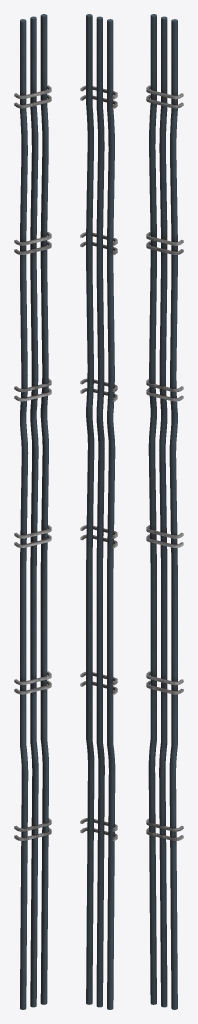
File: Cables01_04.glb
3 views of the same model, side by side, from view 1: azimuth 30°, elevation 25°; view 2: azimuth 150°, elevation 25°; view 3: azimuth 330°, elevation 25° (orthographic).
Visible parts, largest first — view 1: Circle_007; view 2: Circle_007; view 3: Circle_007.
Boxes of the visible parts, box(x1,y1,x2,y2) form: Circle_007: box(14, 14, 51, 1009); Circle_007: box(80, 14, 117, 1009); Circle_007: box(146, 14, 183, 1009).
Bounding box in the file's own units: 0.0984 × 2.7 × 0.028.
Materials: 1 (1 with a texture image).
